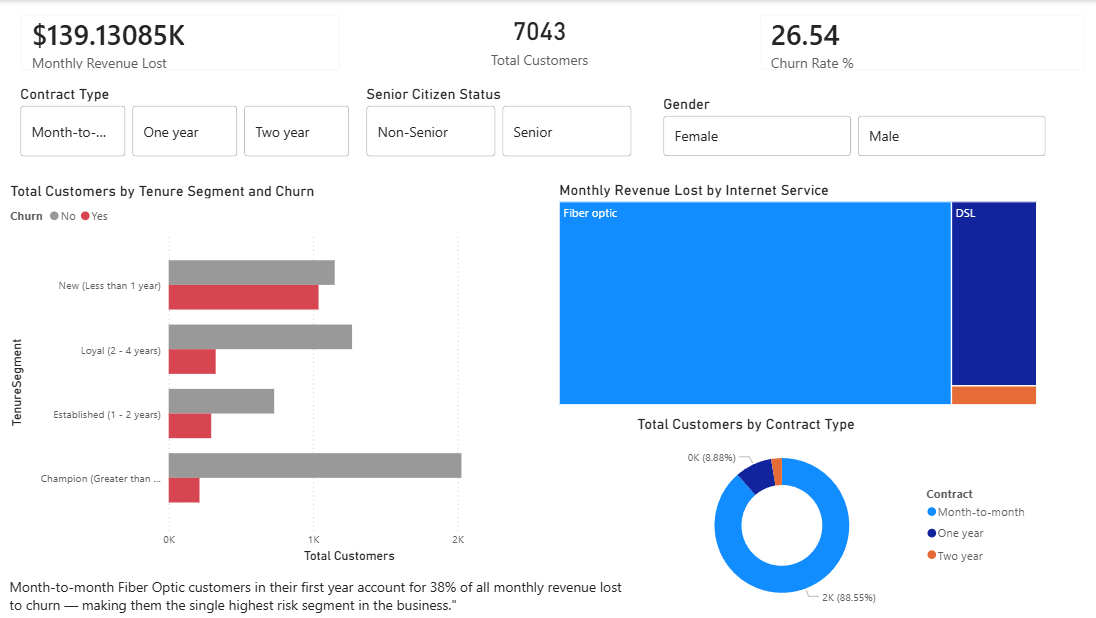

The page's visual inventory and layout, read from the dashboard file:
{"tool":"powerbi","page":{"name":"Customer & Churn Overview","canvas":[1280,720],"ordinal":0},"visuals":[{"type":"card","fields":{"Values":["_Measure.Total Customers"]},"box":[424,0,412.3,89.4],"z":0},{"type":"cardVisual","fields":{"Data":["_Measure.Churn Rate %"]},"box":[868.8,0,411.2,98.7],"z":1000},{"type":"cardVisual","fields":{"Data":["_Measure.Monthly Revenue Lost"]},"box":[10.5,0,405.4,98.7],"z":2000},{"type":"clusteredBarChart","title":"Total Customers by Tenure Segment and Churn","fields":{"Category":["churn_enriched.TenureSegment"],"Y":["_Measure.Total Customers"],"Series":["churn_enriched.Churn"]},"box":[10,211.5,620.5,447],"z":3000},{"type":"treemap","title":"Monthly Revenue Lost by Internet Service","fields":{"Group":["churn_enriched.InternetService"],"Values":["_Measure.Monthly Revenue Lost"]},"box":[648.1,210.2,564.5,264.8],"z":4000},{"type":"donutChart","title":"Total Customers by Contract Type","fields":{"Category":["churn_enriched.Contract"],"Y":["_Measure.Total Customers"]},"box":[738.3,482.6,469.9,237.4],"z":5000},{"type":"advancedSlicerVisual","title":"Contract Type","fields":{"Values":["churn_enriched.Contract"]},"box":[22.1,98.7,393.8,88.3],"z":6000},{"type":"advancedSlicerVisual","title":"Senior Citizen Status","fields":{"Values":["churn_enriched.SeniorCitizen"]},"box":[424,98.7,318.3,88.3],"z":7000},{"type":"advancedSlicerVisual","title":"Gender","fields":{"Values":["churn_enriched.gender"]},"box":[768.9,110.3,455.3,76.7],"z":8000},{"type":"textbox","box":[9.3,665.6,729.4,52.3],"z":8001}]}

Visuals, with their boxes in screenshot pixels (x1, y1, x2, y2), scaled from the page's 1280x720 canvas onto the 1096x618 screenshot:
card - _Measure.Total Customers: box(363, 0, 716, 77)
cardVisual - _Measure.Churn Rate %: box(744, 0, 1095, 85)
cardVisual - _Measure.Monthly Revenue Lost: box(9, 0, 356, 85)
"Total Customers by Tenure Segment and Churn" clusteredBarChart: box(9, 182, 540, 565)
"Monthly Revenue Lost by Internet Service" treemap: box(555, 180, 1038, 408)
"Total Customers by Contract Type" donutChart: box(632, 414, 1035, 617)
"Contract Type" advancedSlicerVisual: box(19, 85, 356, 161)
"Senior Citizen Status" advancedSlicerVisual: box(363, 85, 636, 161)
"Gender" advancedSlicerVisual: box(658, 95, 1048, 161)
textbox: box(8, 571, 633, 616)
